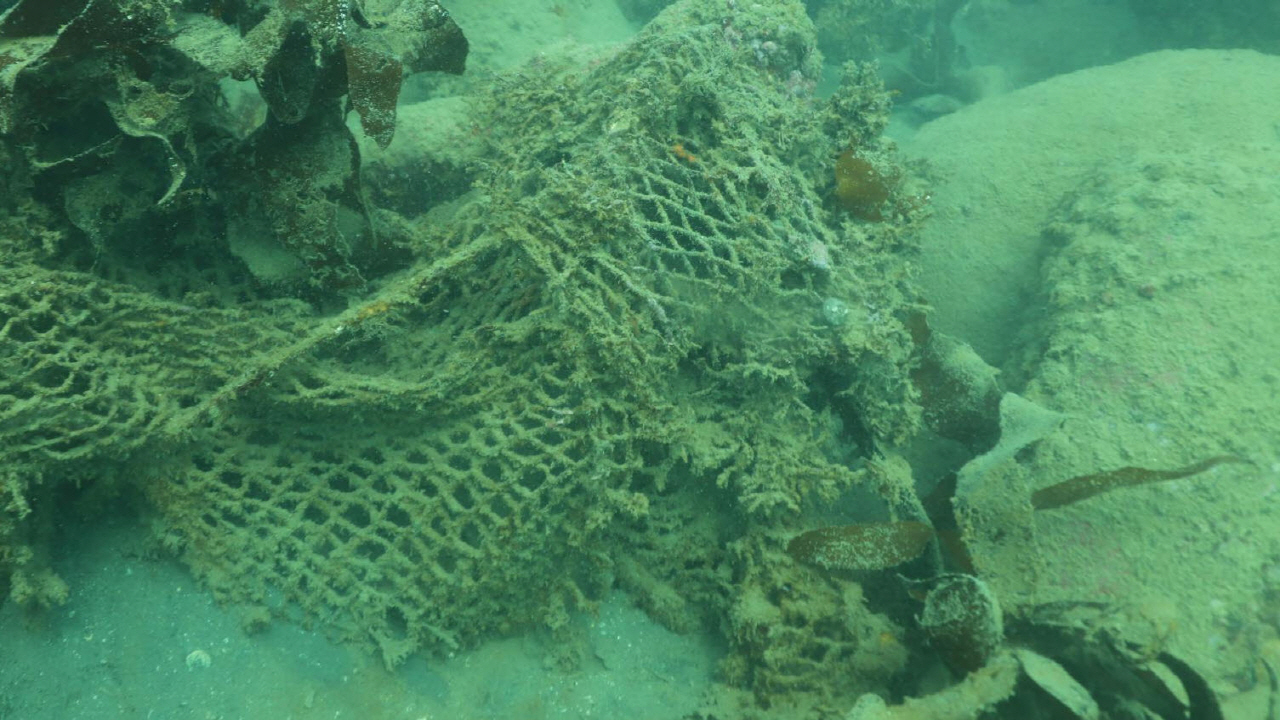fish net: (0, 23, 868, 647)
